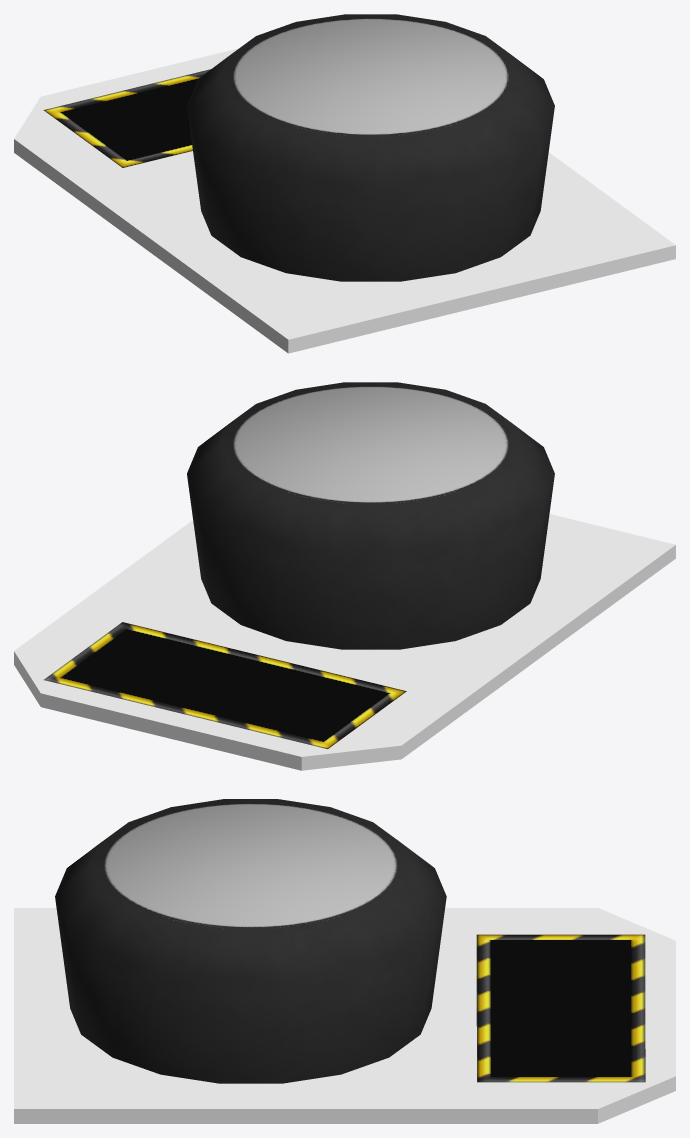
Rendered from Plastic.glb.
3 views of the same model, one above another, from view 1: azimuth 30°, elevation 25°; view 2: azimuth 150°, elevation 25°; view 3: azimuth 270°, elevation 25° (orthographic). The views are drawn at different scales.
Visible parts, largest first — view 1: Button_Low, Plaque, Button_Low.001; view 2: Plaque, Button_Low, Button_Low.001; view 3: Plaque, Button_Low, Button_Low.001.
Part boxes in pixels (left/top/right/bottom): Button_Low: left=187, top=14, right=554, bottom=281; Plaque: left=14, top=48, right=675, bottom=353; Button_Low.001: left=229, top=17, right=512, bottom=135; Plaque: left=14, top=514, right=675, bottom=770; Button_Low: left=187, top=382, right=554, bottom=649; Button_Low.001: left=229, top=385, right=512, bottom=503; Plaque: left=14, top=908, right=675, bottom=1123; Button_Low: left=55, top=799, right=446, bottom=1083; Button_Low.001: left=100, top=802, right=401, bottom=928.
Bounding box in the file's own units: 0.0524 × 0.0191 × 0.0729.
Materials: 3 (2 with a texture image).
